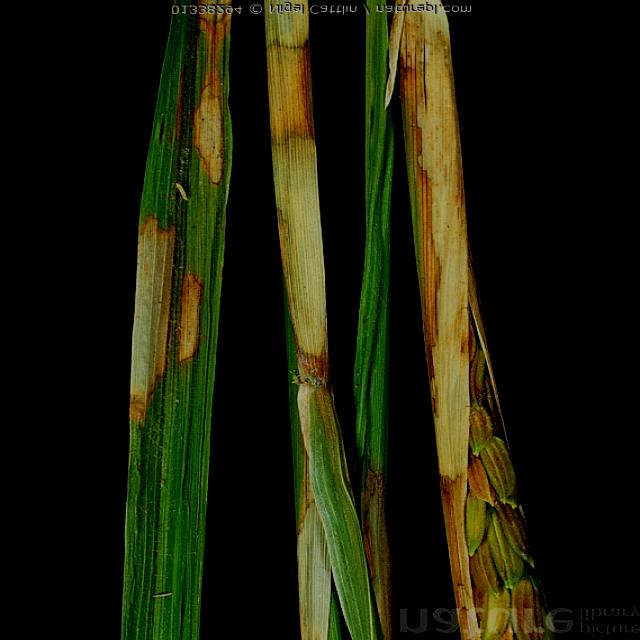Bacterial_Leaf_Blight: (400, 18, 560, 604), (130, 19, 226, 424), (262, 19, 332, 448), (297, 458, 333, 639), (362, 464, 396, 638)
